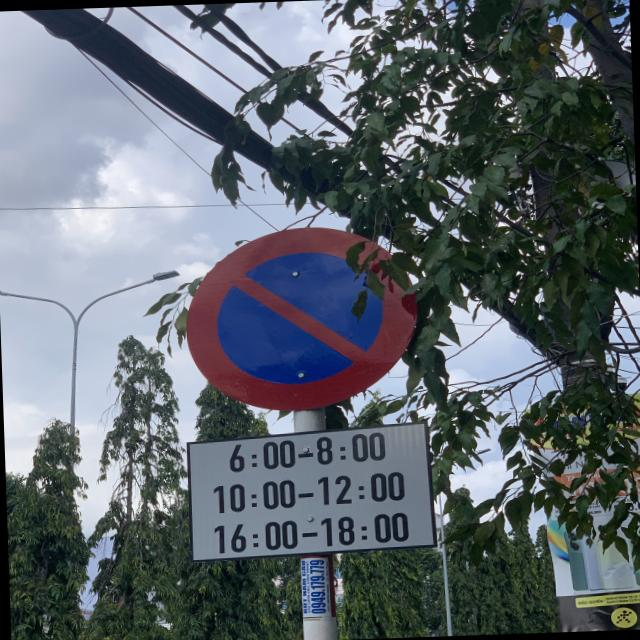Cam_Dau_Xe: (182, 220, 426, 414)
